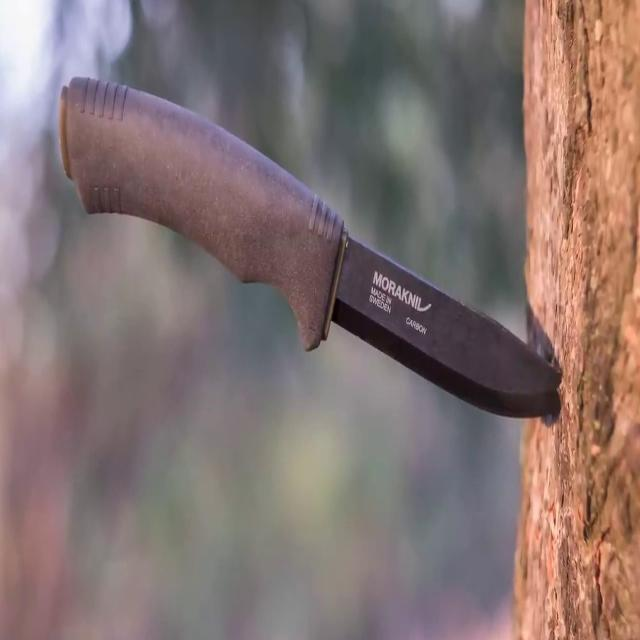Knife: (58, 68, 568, 434)
